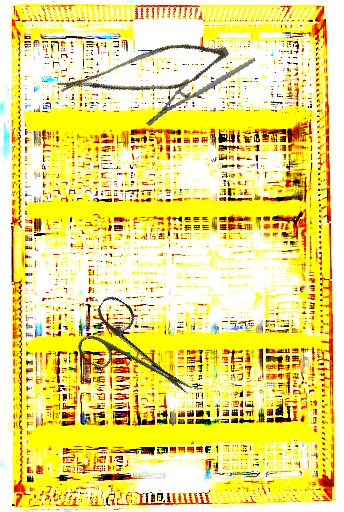Iris Scissors: (70, 292, 211, 419)
Micro Scissor: (53, 17, 234, 132)
Needle Holder: (137, 58, 265, 127)
